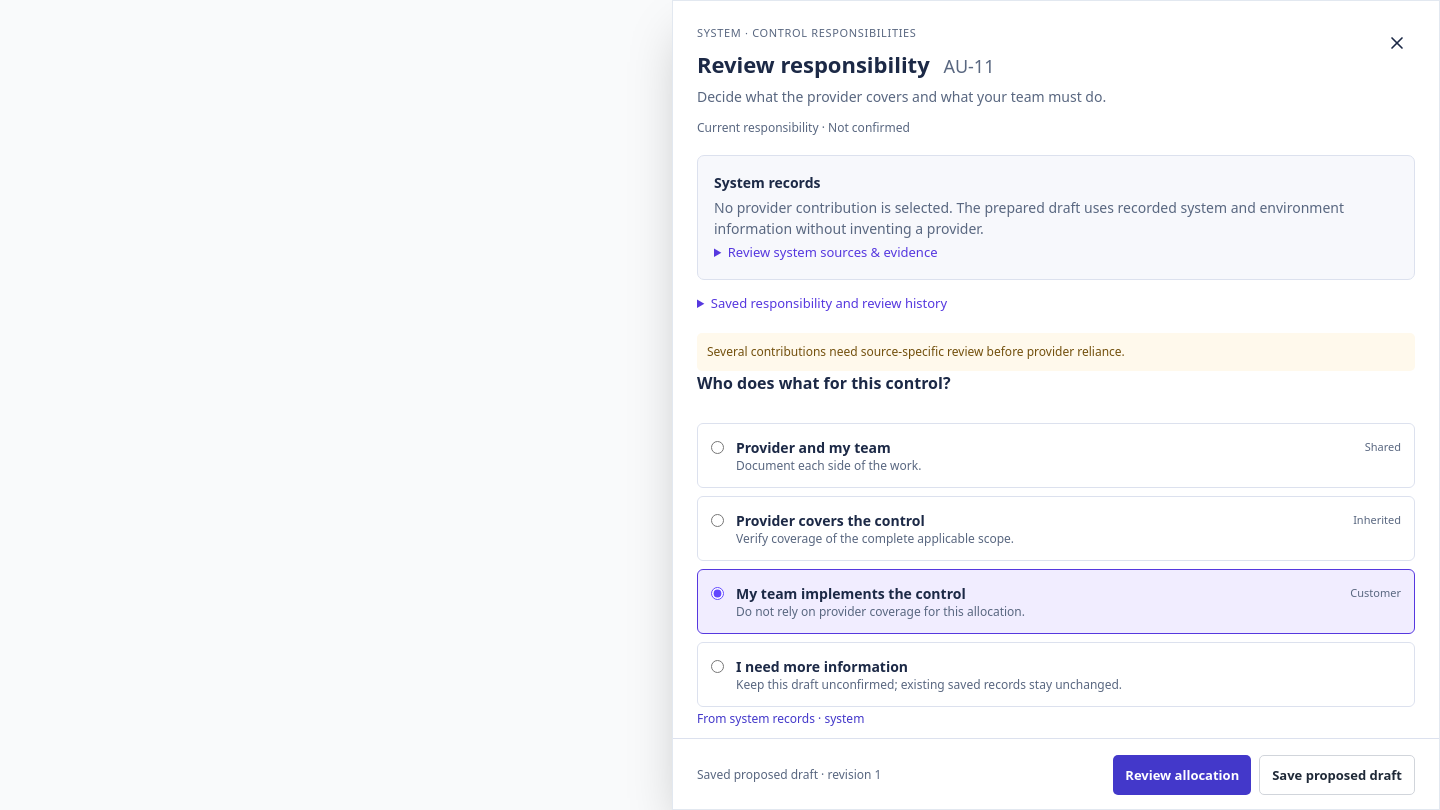
retains the existing explicit review path for Customer with multiple provider contributions
Click the button "Review allocation" at {"x": 1182, "y": 775}, box [1113,755,1251,795]
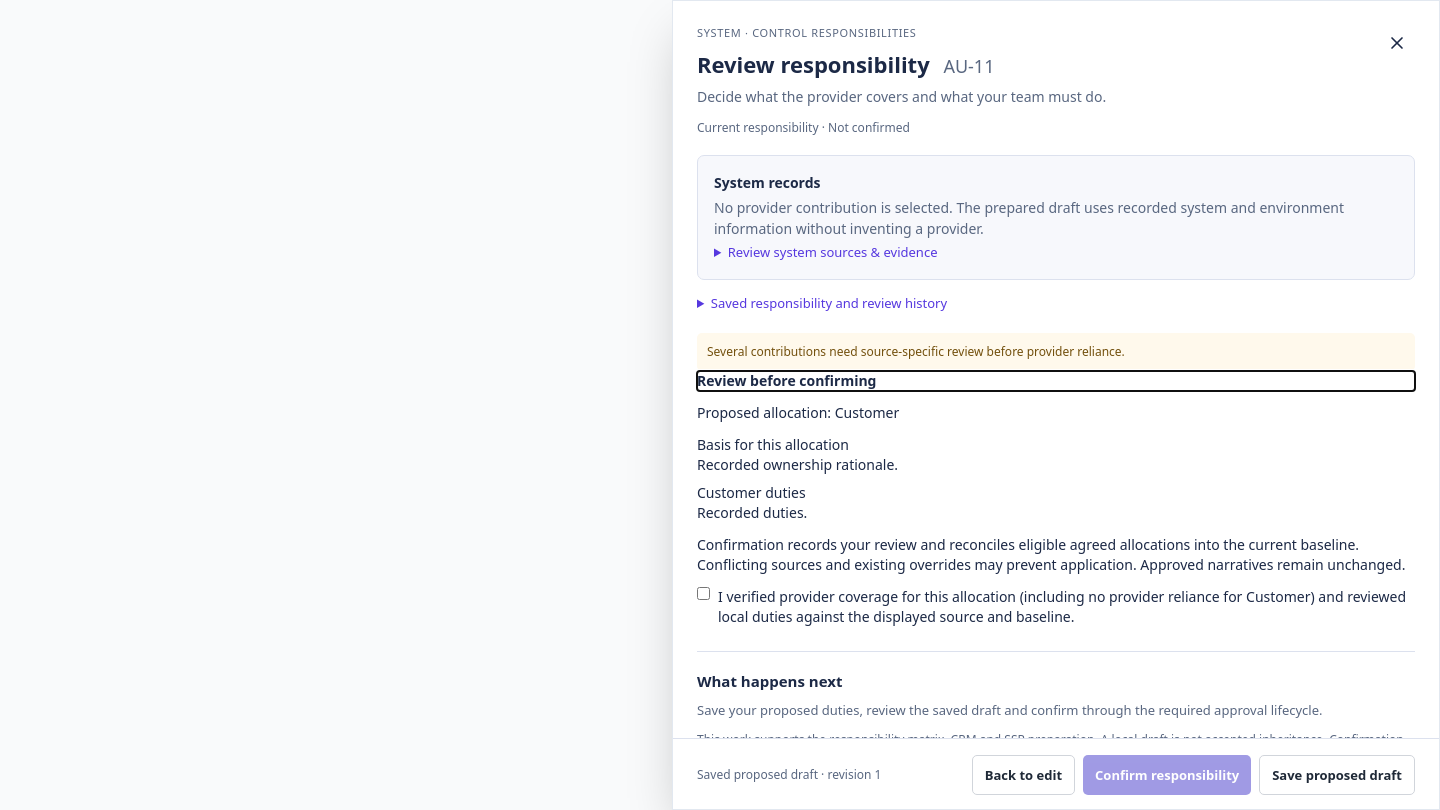
Click the checkbox at {"x": 704, "y": 594}, box [697,587,710,600]
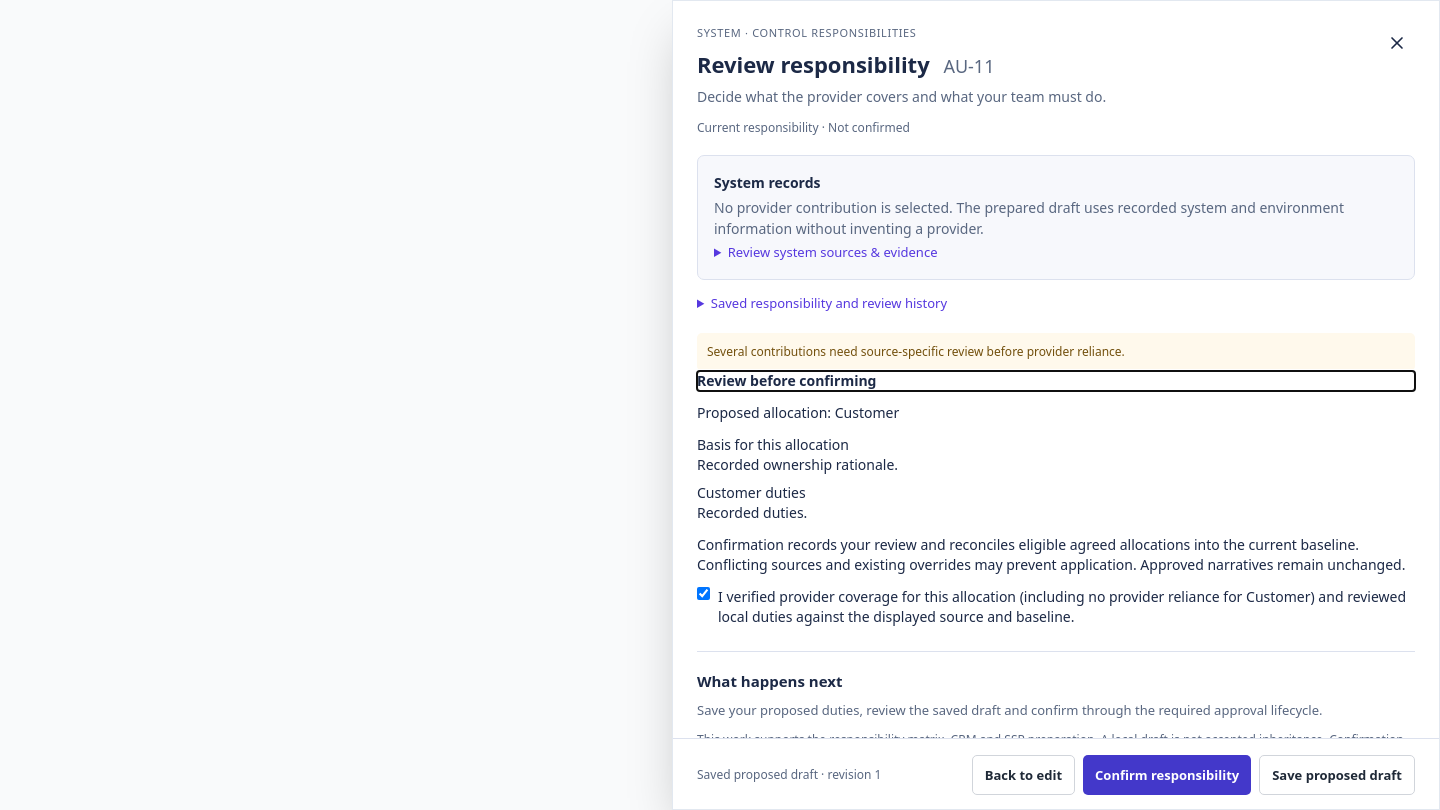
Expected: the button "Confirm responsibility" is enabled, [1083,755,1251,795]
